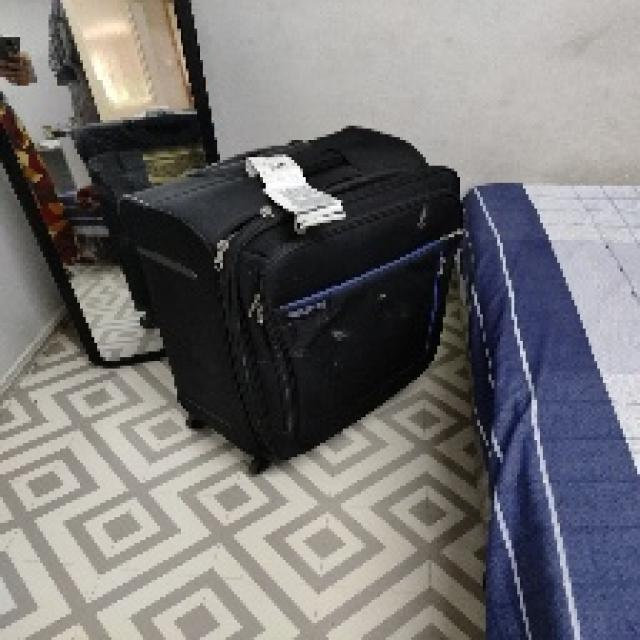Suitcase: (112, 129, 468, 476)
